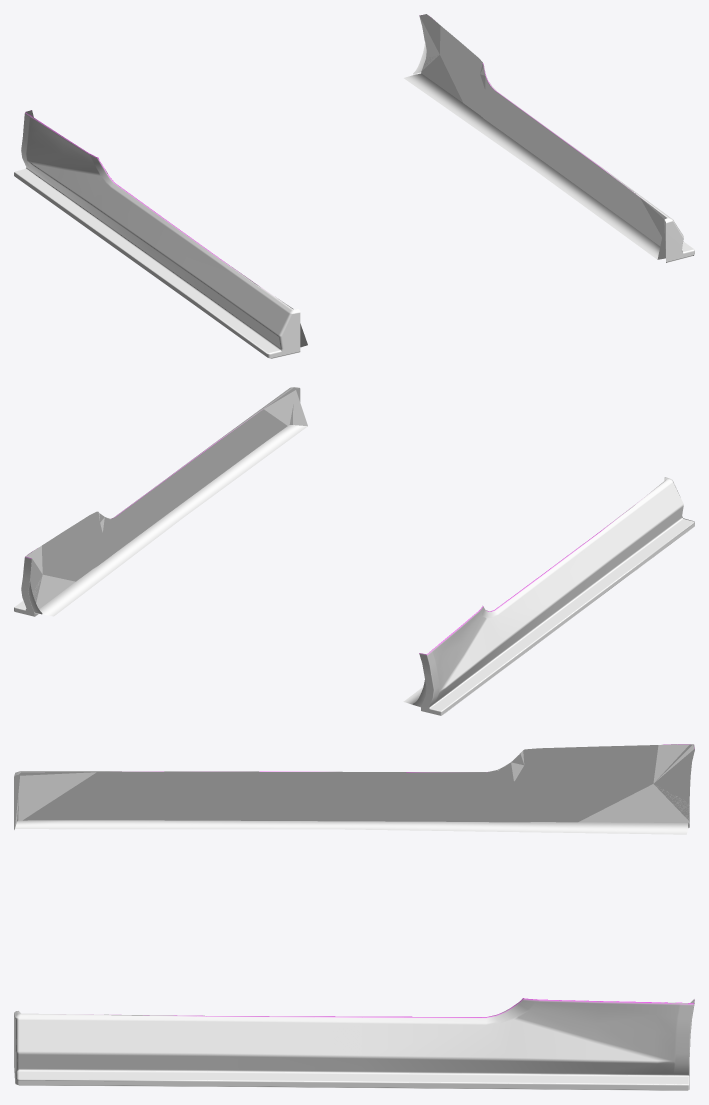
File: Car_Nissan_SkylineGTRVspecR34_1999_Skirts_SetE_AltC.fbx
3 views of the same model, one above another, from view 1: azimuth 30°, elevation 25°; view 2: azimuth 150°, elevation 25°; view 3: azimuth 270°, elevation 25° (orthographic). The views are drawn at different scales.
Parts seen in each view (by area): view 1: Skirts 6; view 2: Skirts 6; view 3: Skirts 6.
Boxes of the visible parts, x1,y1,x2,y2 form: Skirts 6: (14,14,694,358); Skirts 6: (14,387,694,715); Skirts 6: (14,744,694,1090).
Bounding box in the file's own units: 1.84 × 0.248 × 1.92.
